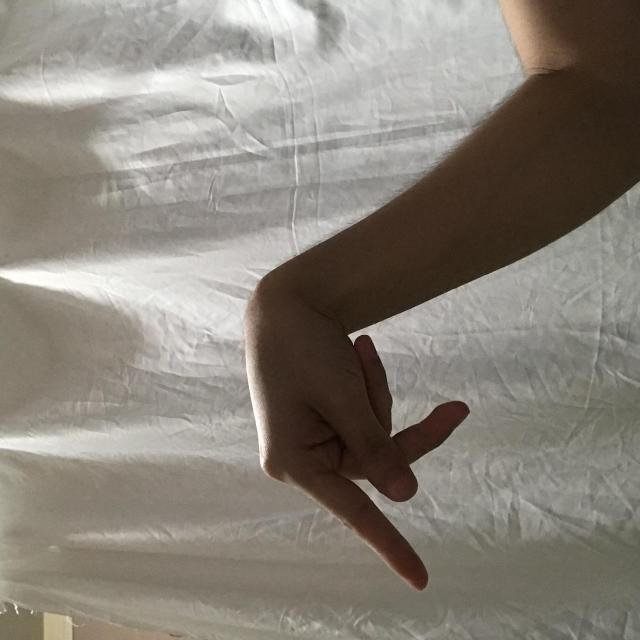P: (51, 243, 359, 472)
